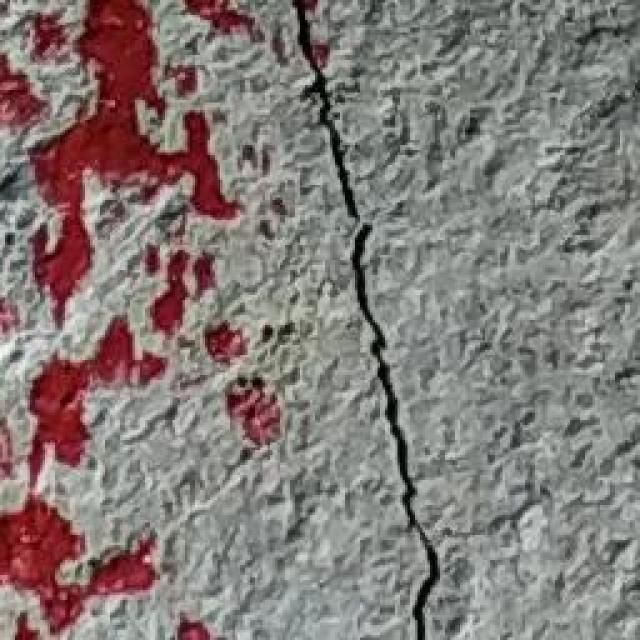Longitudinal: (268, 0, 447, 623)
